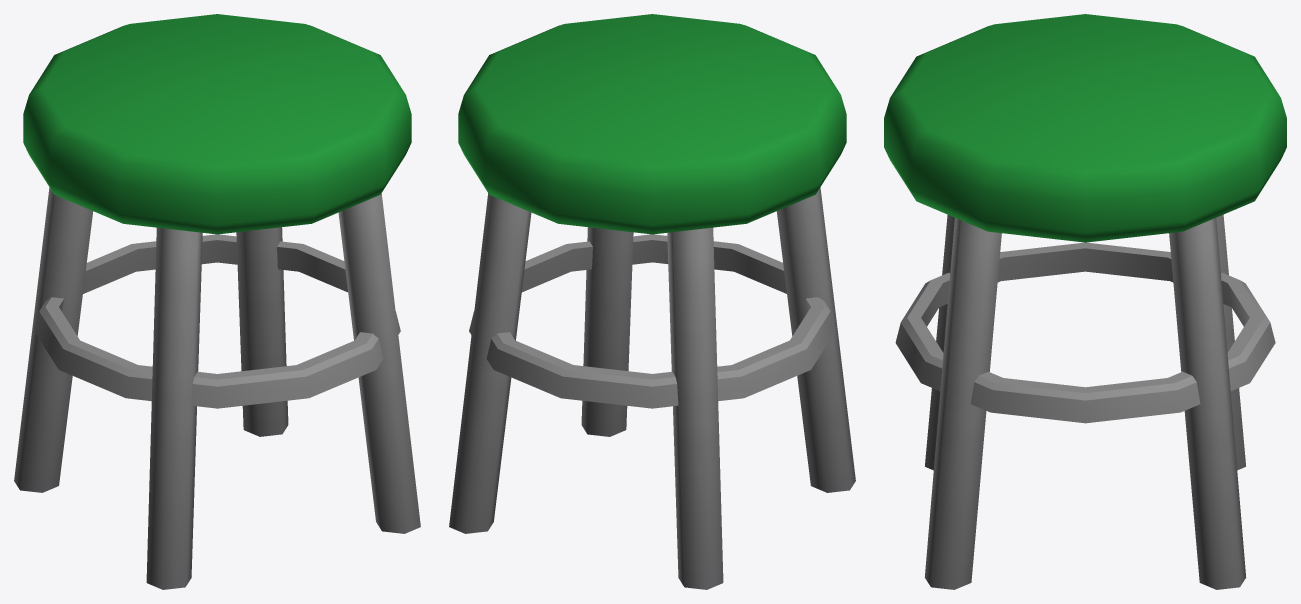
Rendered from Chair_2_G.fbx.
3 views of the same model, side by side, from view 1: azimuth 30°, elevation 25°; view 2: azimuth 150°, elevation 25°; view 3: azimuth 270°, elevation 25° (orthographic). The views are drawn at different scales.
Parts seen in each view (by area): view 1: Chair_2_G; view 2: Chair_2_G; view 3: Chair_2_G.
Part boxes in pixels (box(x1,y1,x2,y2)): Chair_2_G: box(14, 14, 420, 589); Chair_2_G: box(449, 14, 855, 589); Chair_2_G: box(884, 14, 1286, 589).
Size of the model in its own units: 50.02 by 59.1 by 50.04.
